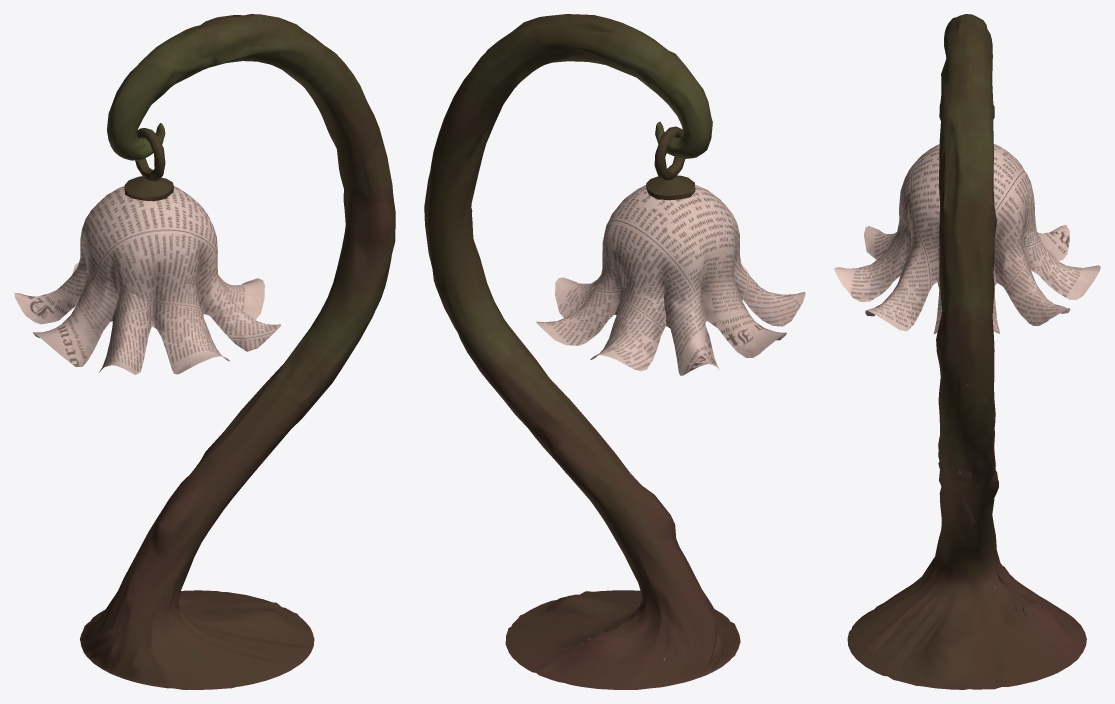
The model's file is floor-lamp-paper.glb.
3 renders of one model, left to right at view 1: azimuth 30°, elevation 25°; view 2: azimuth 150°, elevation 25°; view 3: azimuth 270°, elevation 25°, orthographic.
Bounding box in the file's own units: 1.13 × 1.86 × 0.722.
2 materials, 2 textured.
